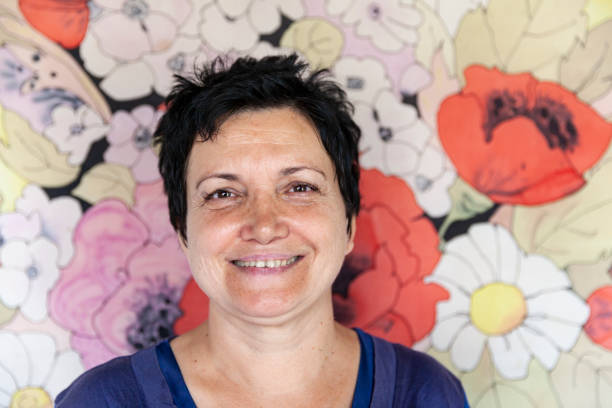face: (190, 141, 338, 322)
